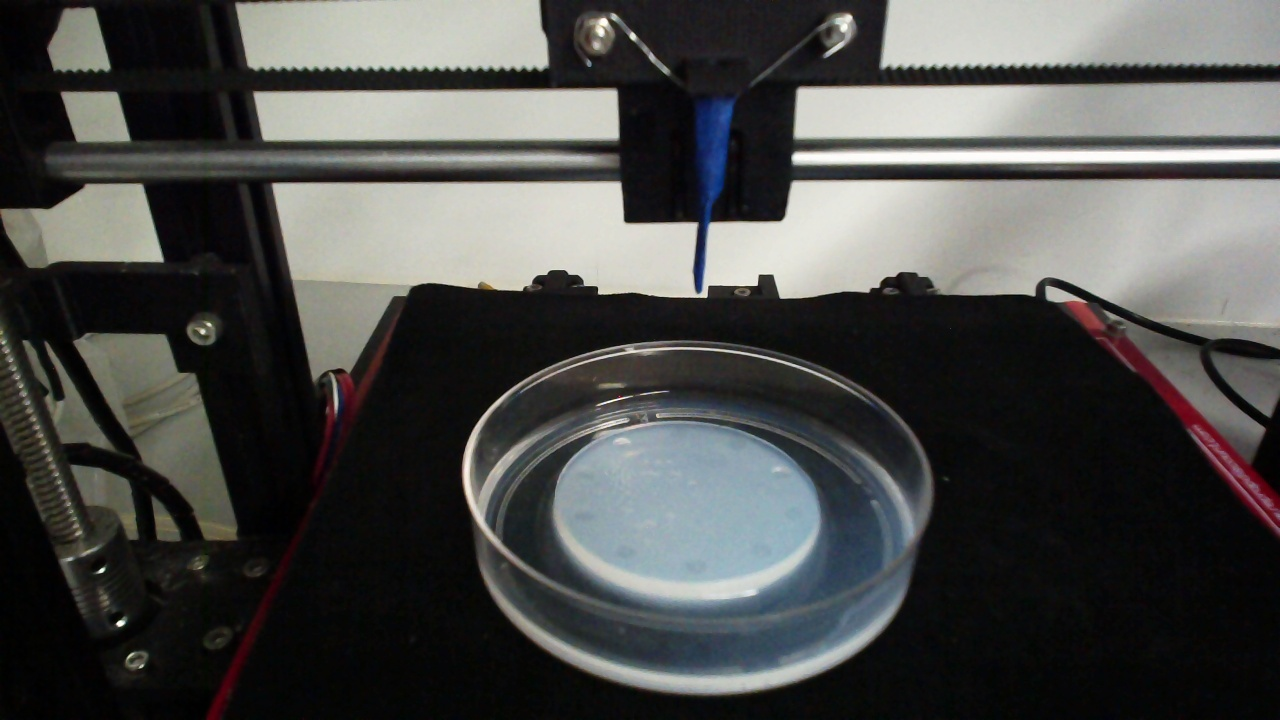groove: (683, 558, 709, 577), (767, 464, 793, 483), (610, 544, 637, 561), (724, 434, 749, 452), (748, 542, 773, 559), (782, 505, 804, 522), (610, 434, 633, 450), (571, 509, 595, 524), (573, 469, 595, 483), (667, 427, 688, 441)
needle: (693, 98, 734, 292)
